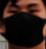with_mask: (2, 1, 46, 49)
